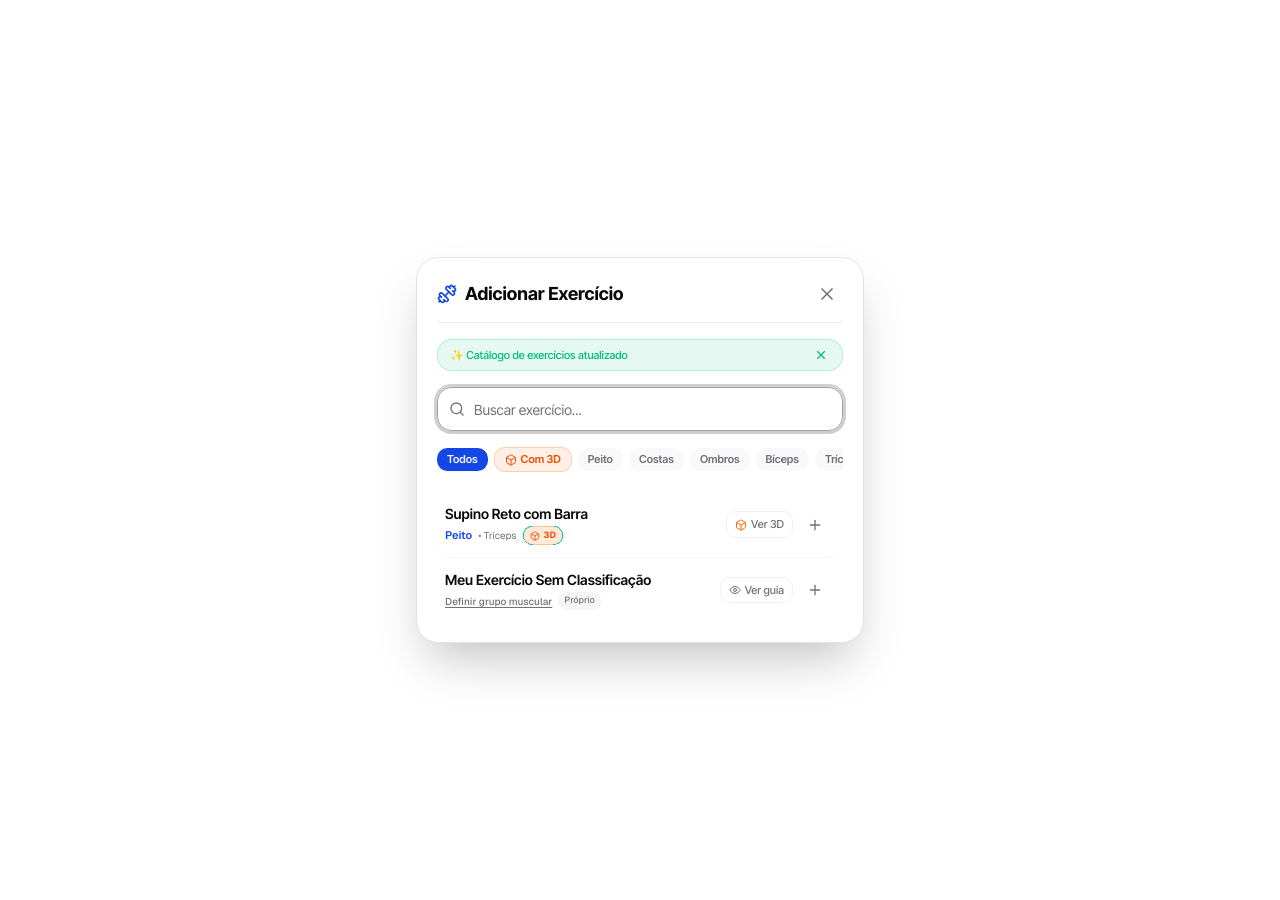
Scenario: Task 3.1C - Grupos Musculares no Frontend › 3. ExerciseSelectorModal UI (Items 15 & 19) › renderiza músculos e permite definir classificação de exercício próprio
Expected: the text "Supino Reto com Barra" is shown, [445, 504, 588, 524]
Expected: the button "Peito" is shown, [578, 448, 623, 471]
Step 1. Click the button "Definir grupo muscular" → x=499, y=601, box [445, 594, 552, 609]
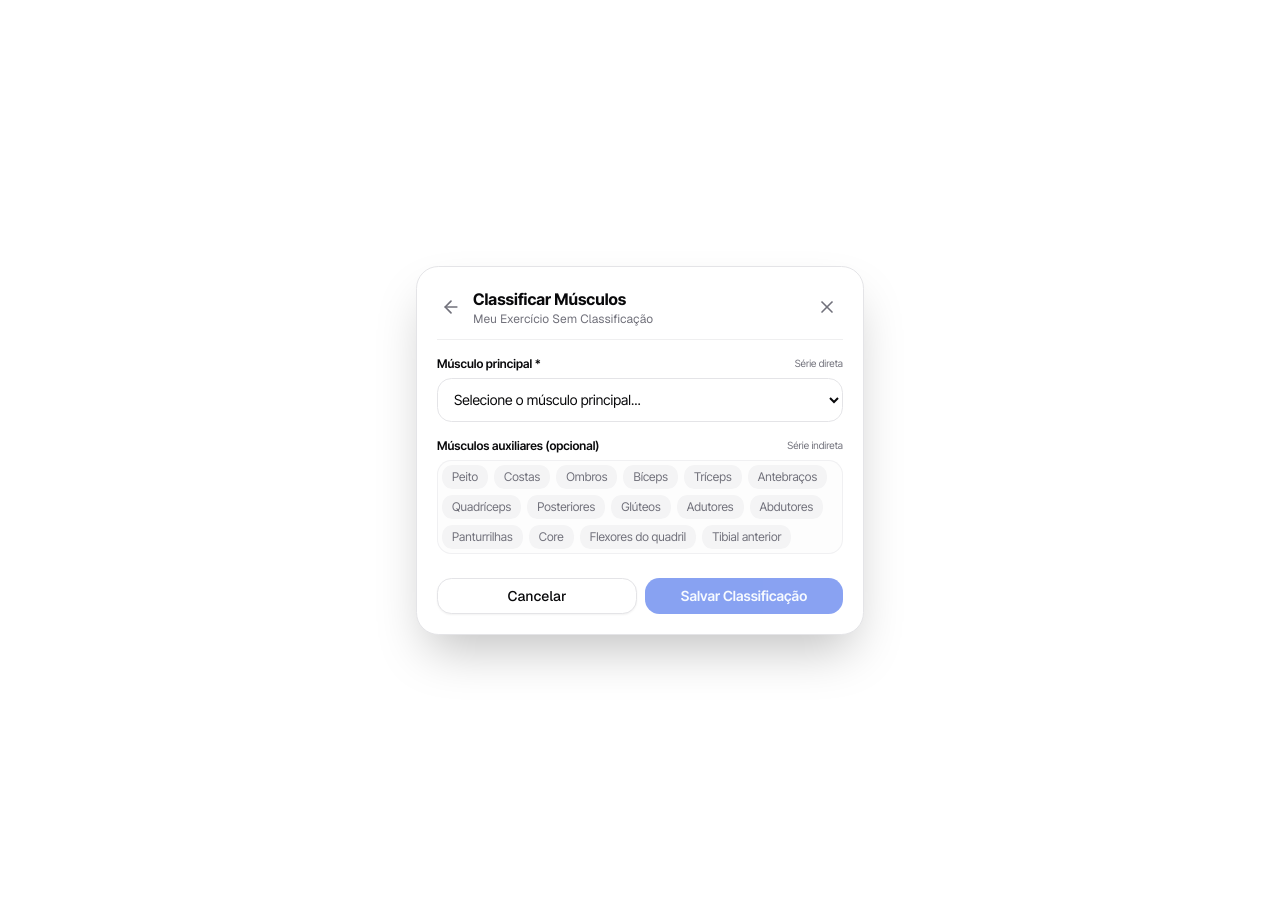
Now the heading "Classificar Músculos" is shown, box [473, 286, 653, 310]
